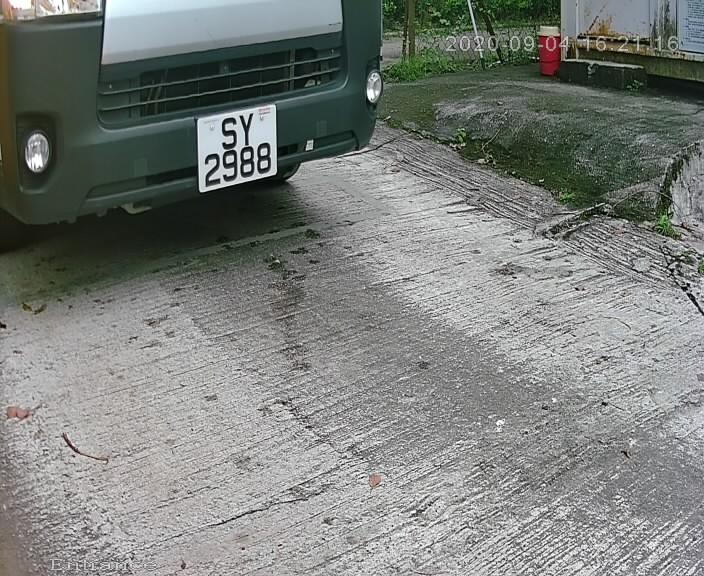Car: (4, 1, 441, 294)
License Plate: (183, 98, 290, 199)
